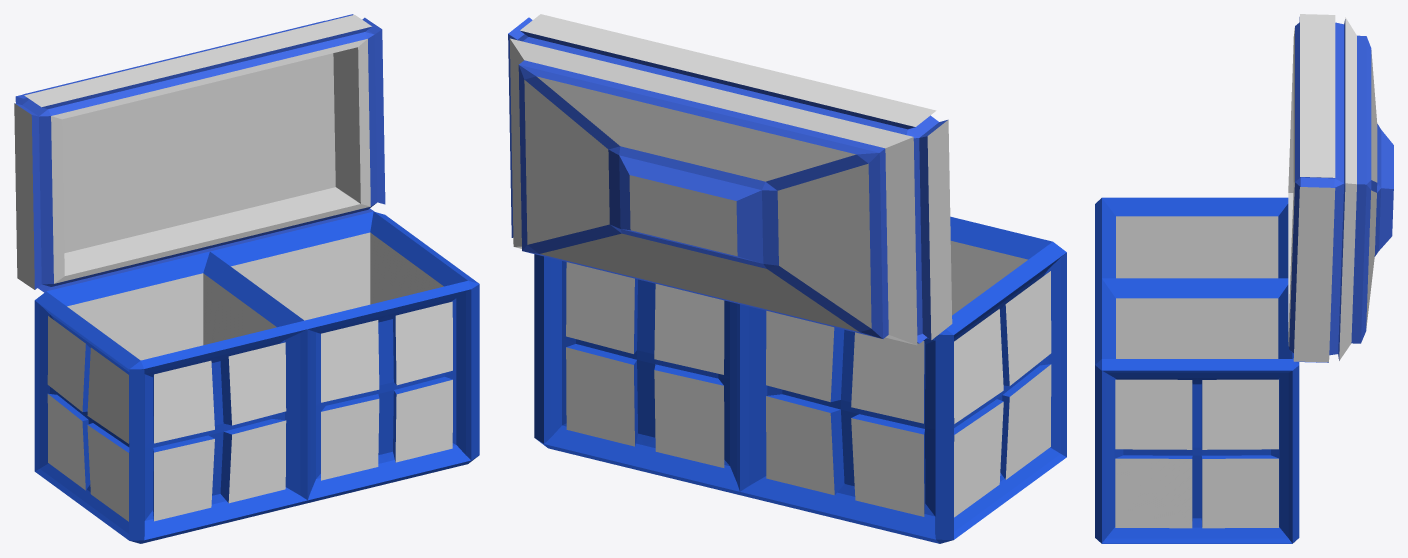
Rendered from Cargo box Opened UNITY 1.fbx.
The picture shows the model from 3 angles, left to right: view 1: azimuth 30°, elevation 25°; view 2: azimuth 150°, elevation 25°; view 3: azimuth 270°, elevation 25°; orthographic projection. The views are drawn at different scales.
Visible parts, largest first — view 1: Cube, Cube.001; view 2: Cube, Cube.001; view 3: Cube, Cube.001.
Part boxes in pixels (x1=…): Cube: x1=34, y1=211, x2=479, y2=543; Cube.001: x1=14, y1=14, x2=385, y2=292; Cube: x1=534, y1=216, x2=1066, y2=543; Cube.001: x1=508, y1=14, x2=952, y2=345; Cube: x1=1095, y1=197, x2=1299, y2=543; Cube.001: x1=1288, y1=14, x2=1393, y2=362.
Bounding box in the file's own units: 501 × 498 × 366.
